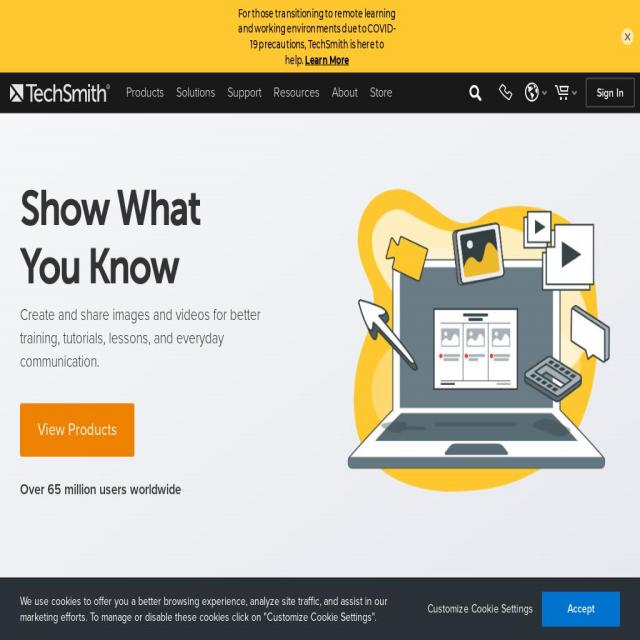language: (524, 78, 546, 110)
login-option: (587, 82, 635, 108)
navigation-links: (121, 72, 400, 112), (465, 77, 640, 113)
search: (468, 77, 487, 108)
